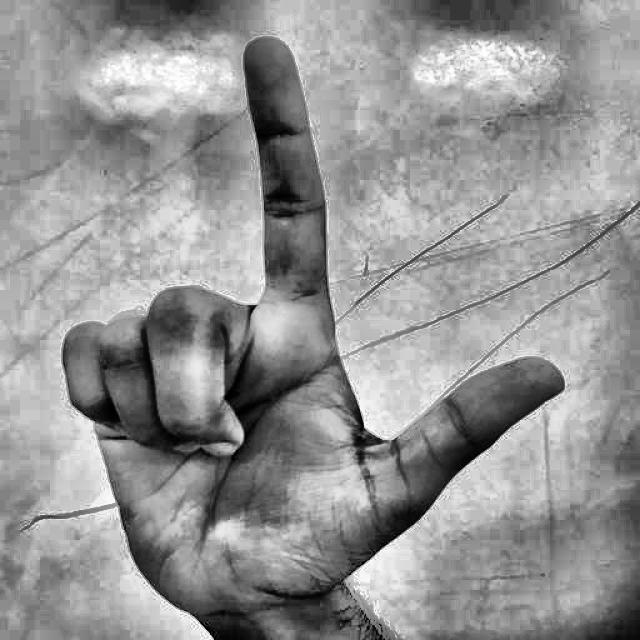La: (32, 22, 579, 634)
